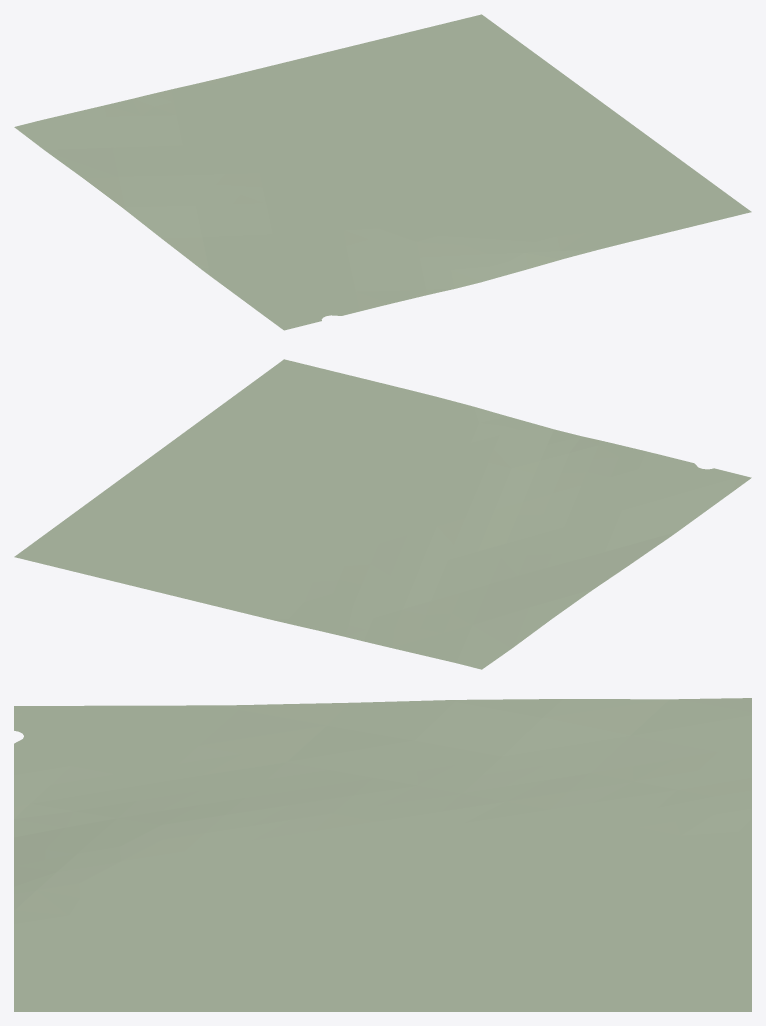
File: SM_MPRR_Terrain_-2_-1.fbx
3 renders of one model, top to bottom at view 1: azimuth 30°, elevation 25°; view 2: azimuth 150°, elevation 25°; view 3: azimuth 270°, elevation 25°, orthographic. The views are drawn at different scales.
Parts seen in each view (by area): view 1: SM_MPRR_Terrain_-2_-1; view 2: SM_MPRR_Terrain_-2_-1; view 3: SM_MPRR_Terrain_-2_-1.
Boxes of the visible parts, x1,y1,x2,y2 form: SM_MPRR_Terrain_-2_-1: [14, 14, 751, 330]; SM_MPRR_Terrain_-2_-1: [14, 359, 751, 669]; SM_MPRR_Terrain_-2_-1: [14, 698, 751, 1011].
Bounding box in the file's own units: 15000 × 15000 × 186.
